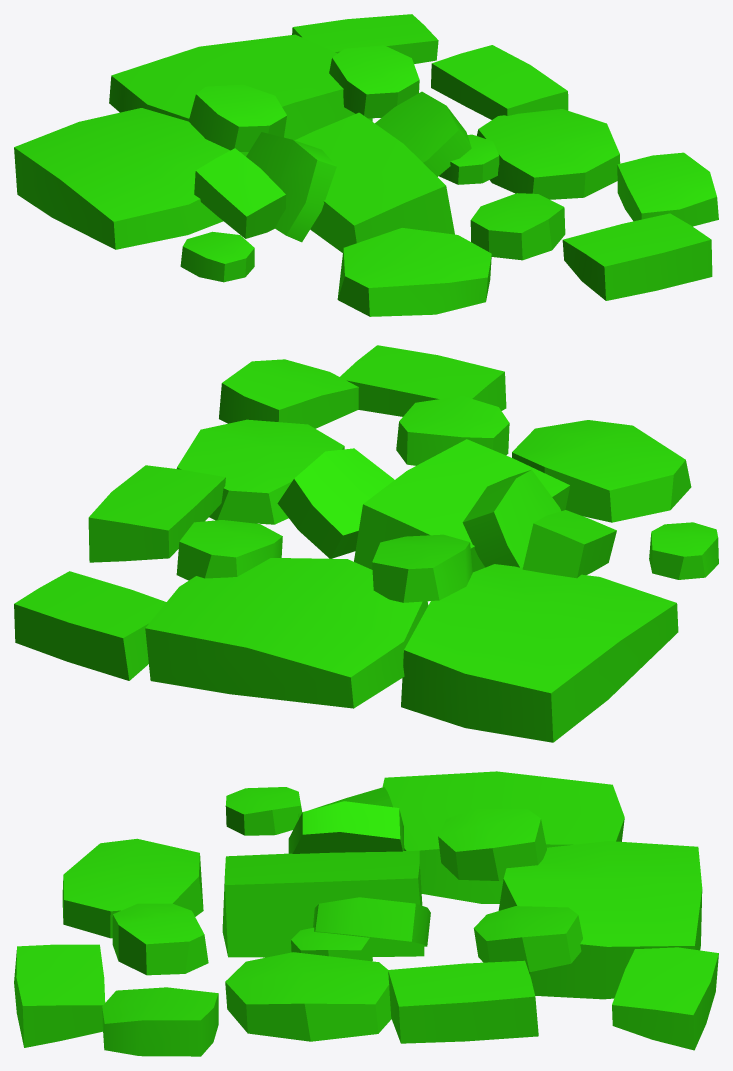
The model's file is Debris_Stone_01A.fbx.
3 renders of one model, top to bottom at view 1: azimuth 30°, elevation 25°; view 2: azimuth 150°, elevation 25°; view 3: azimuth 270°, elevation 25°, orthographic. The views are drawn at different scales.
Visible parts, largest first — view 1: Debris_Stone_01A; view 2: Debris_Stone_01A; view 3: Debris_Stone_01A.
Part boxes in pixels (x1,y1,x2,y2): Debris_Stone_01A: (14, 14, 718, 316); Debris_Stone_01A: (14, 345, 718, 742); Debris_Stone_01A: (14, 771, 718, 1056).
Bounding box in the file's own units: 161 × 33.61 × 185.
